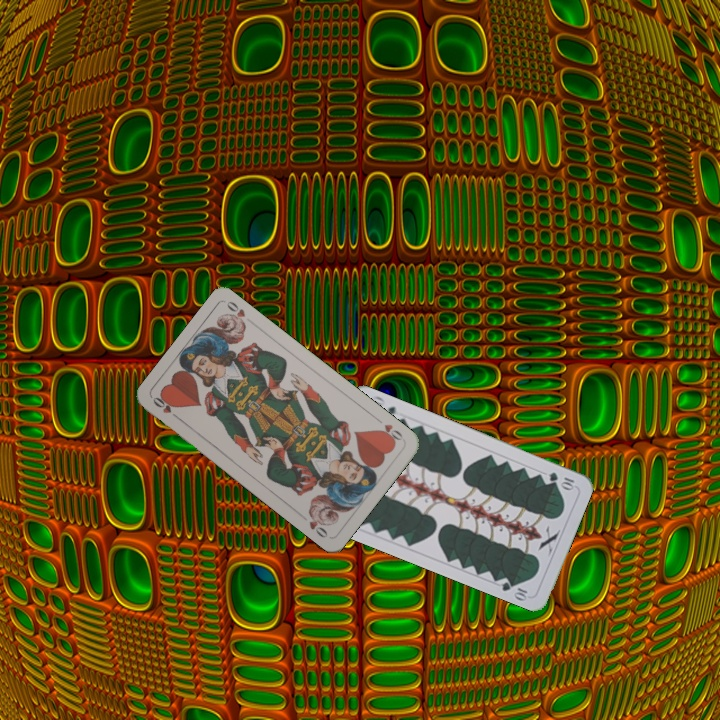G10: (544, 468, 578, 492)
HO: (148, 392, 183, 423), (374, 420, 405, 446)
